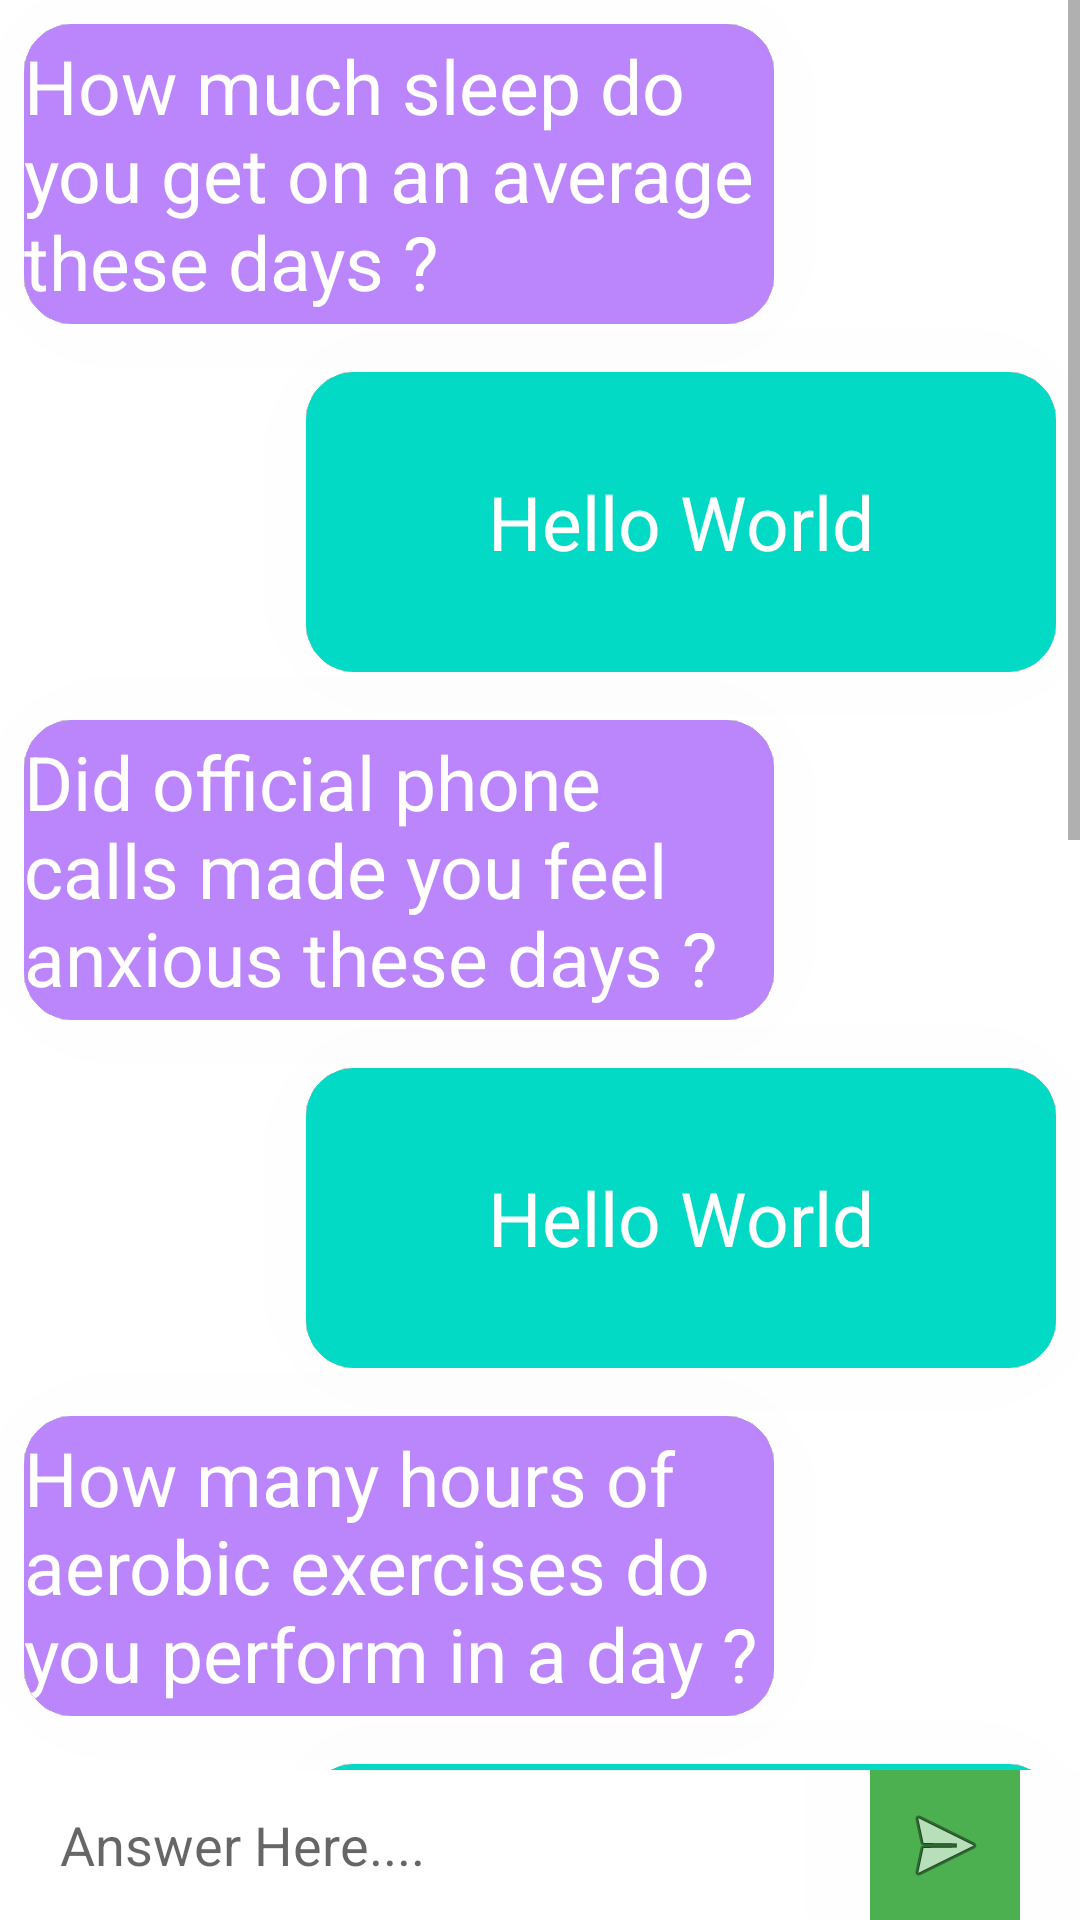

Icons on this 1080w x 1920h Android screen, each with its box as (x1,y1,x2,y2):
send: (870,1770,1020,1920)
